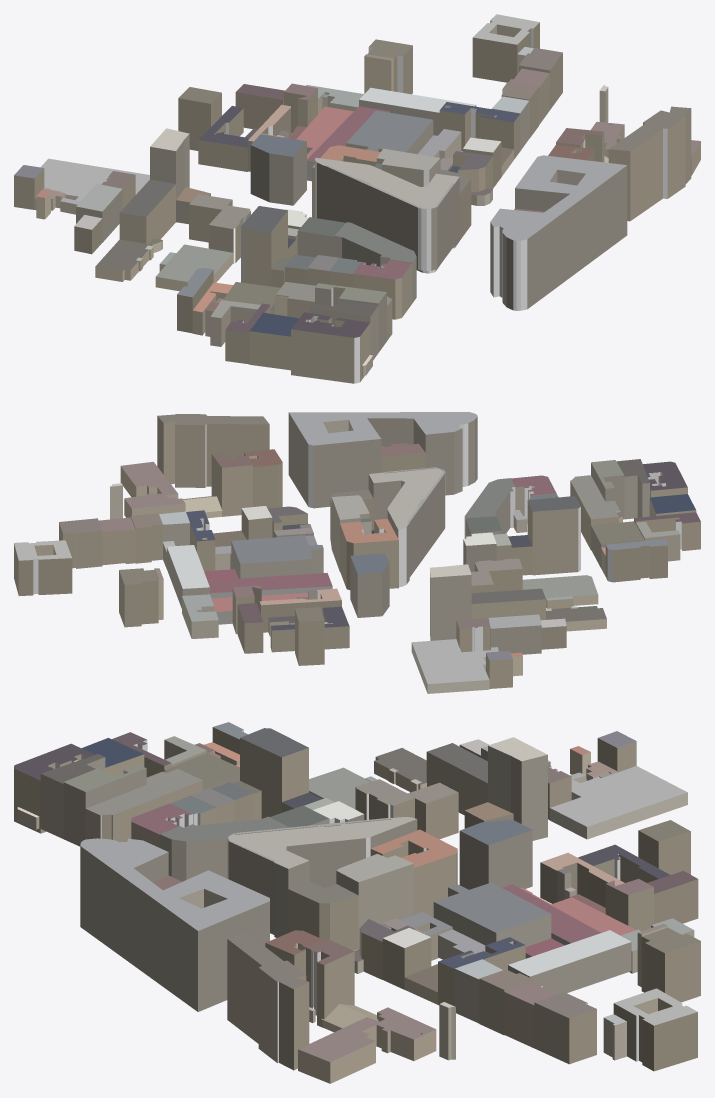
3 views of the same model, one above another, from view 1: azimuth 30°, elevation 25°; view 2: azimuth 150°, elevation 25°; view 3: azimuth 270°, elevation 25° (orthographic). The views are drawn at different scales.
Parts seen in each view (by area): view 1: tuile; view 2: tuile; view 3: tuile.
Part boxes in pixels (box(x1,y1,x2,y2)): tuile: box(14, 14, 700, 383); tuile: box(14, 412, 700, 693); tuile: box(14, 722, 700, 1083).
Bounding box in the file's own units: 280 × 35.71 × 251.
